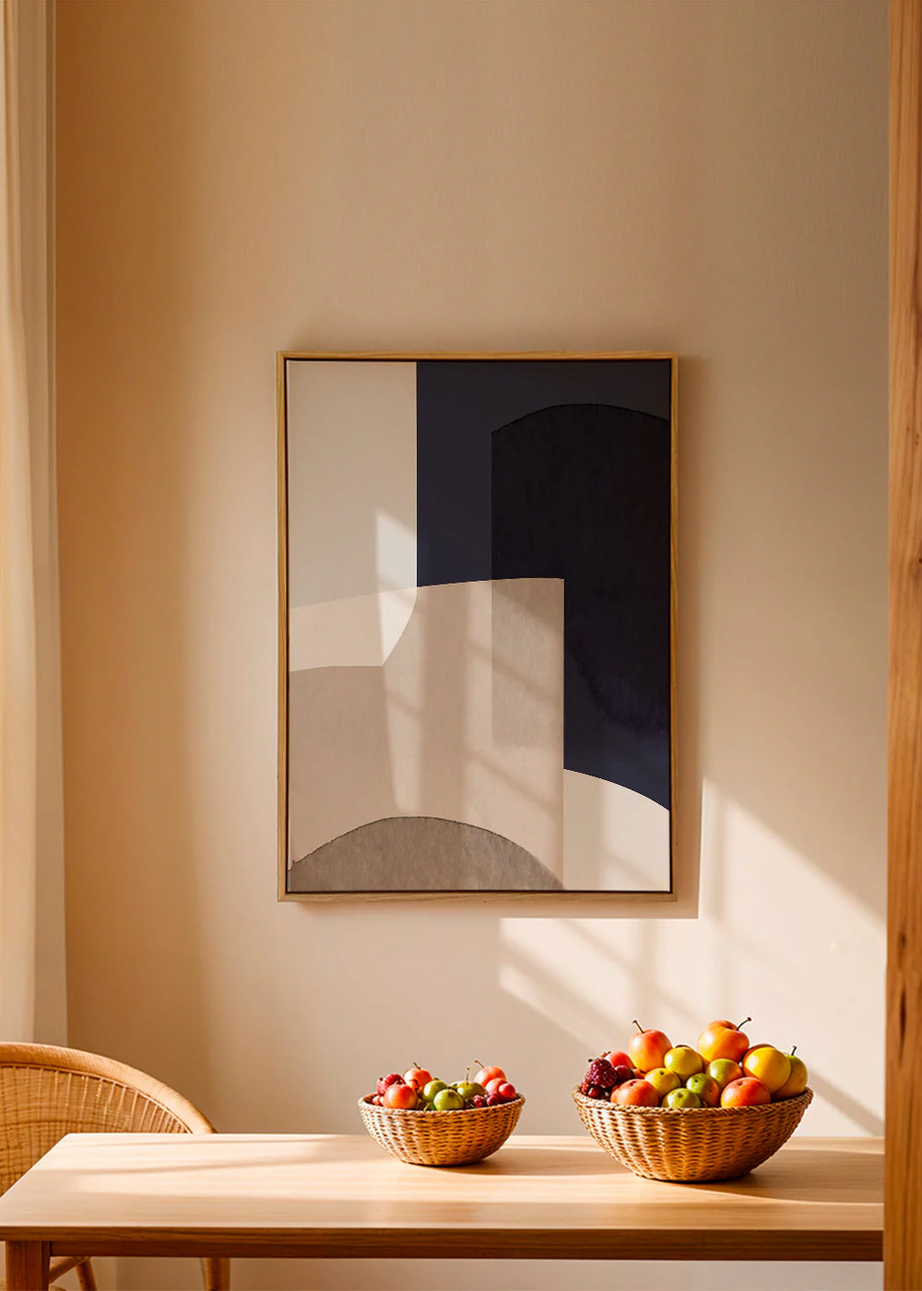painting: (274, 348, 684, 906)
